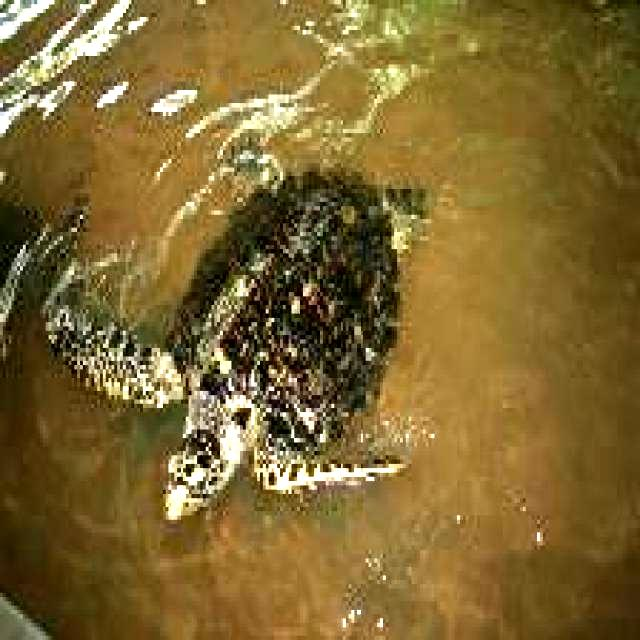Sea turtle: (48, 120, 450, 530)
